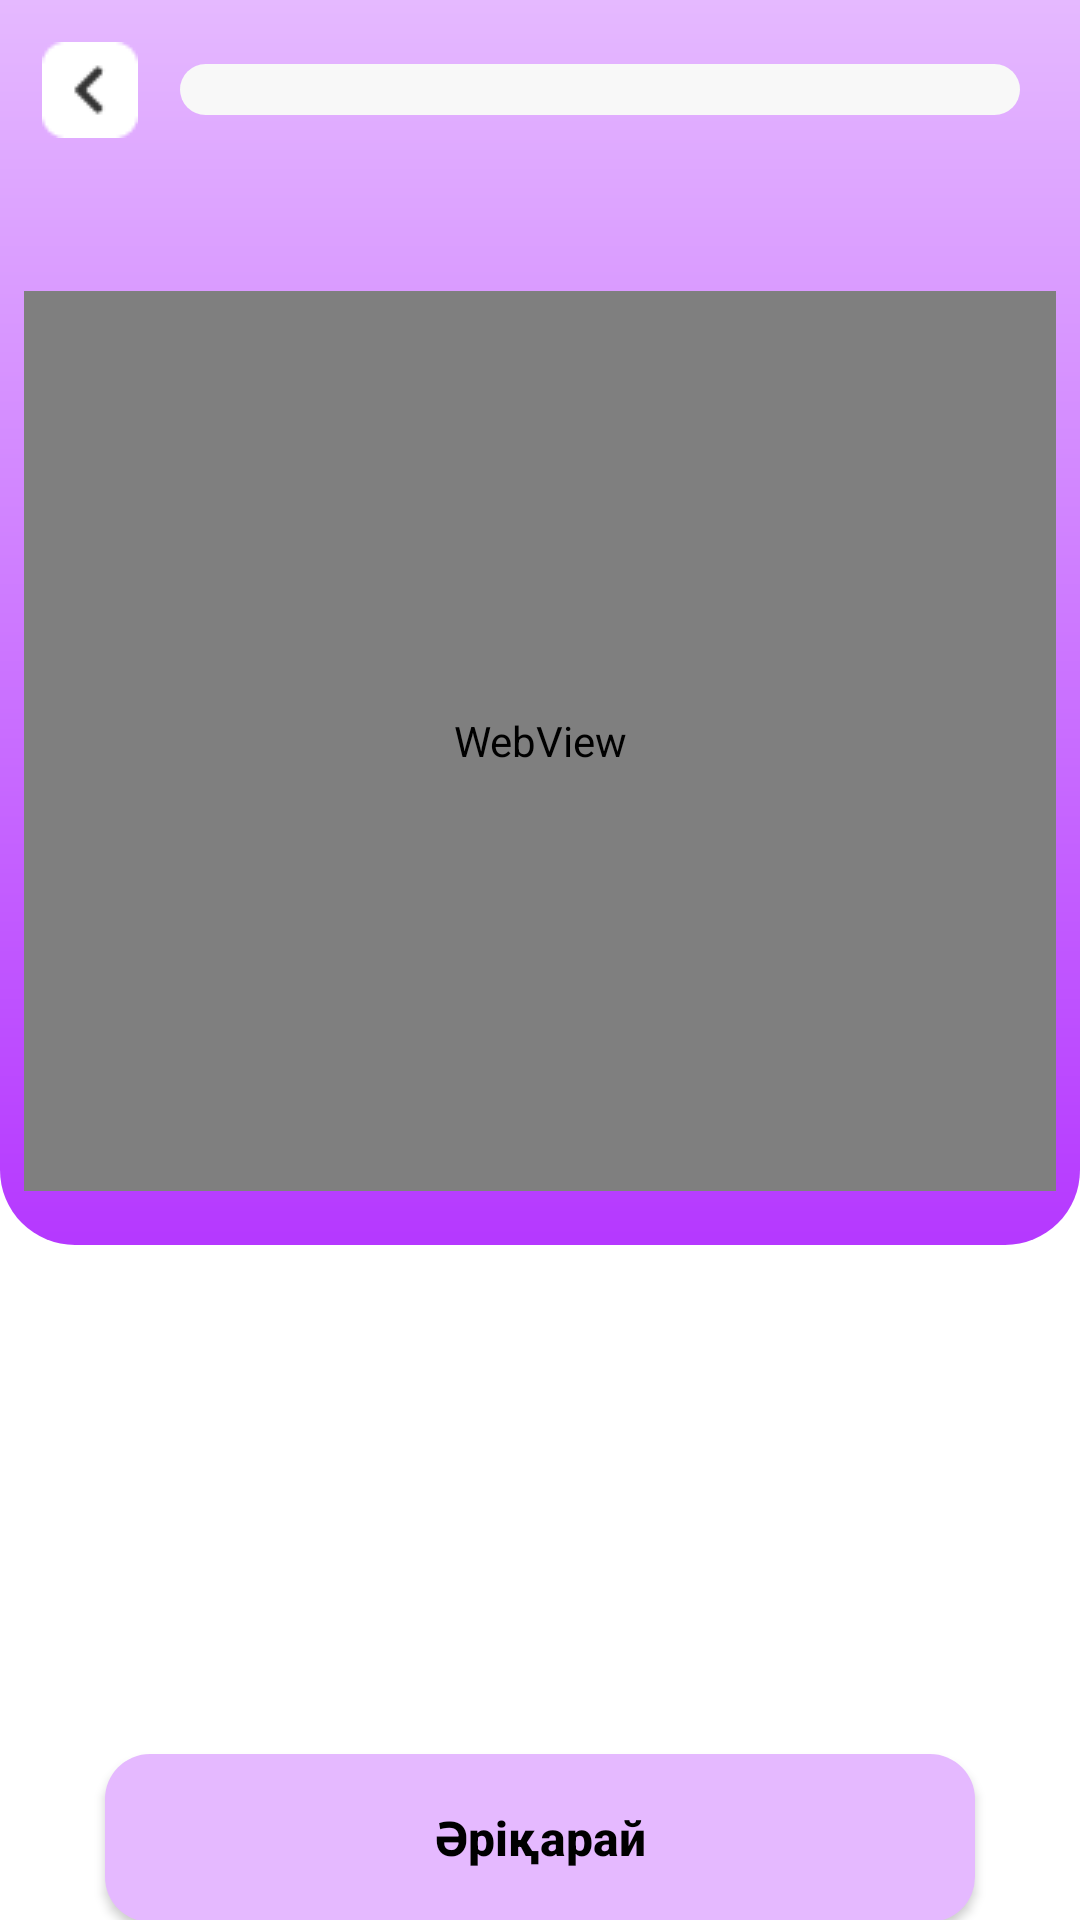

Screen size 1080px×1920px. Icon name, then its box in pixels as region(x1, y1, x2, y2):
back: region(42, 42, 138, 138)
